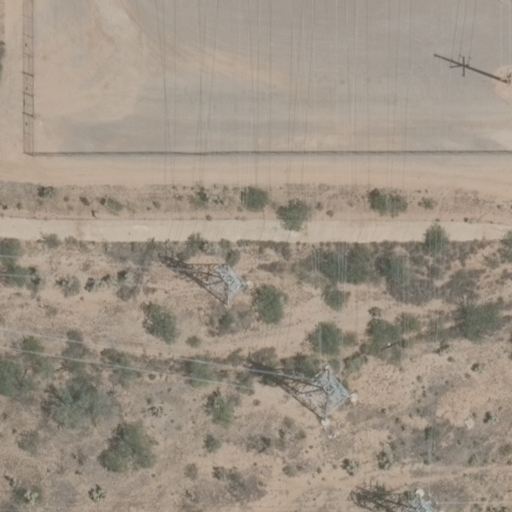DT: (499, 71, 512, 91)
TT: (298, 366, 352, 418), (196, 262, 244, 310)
